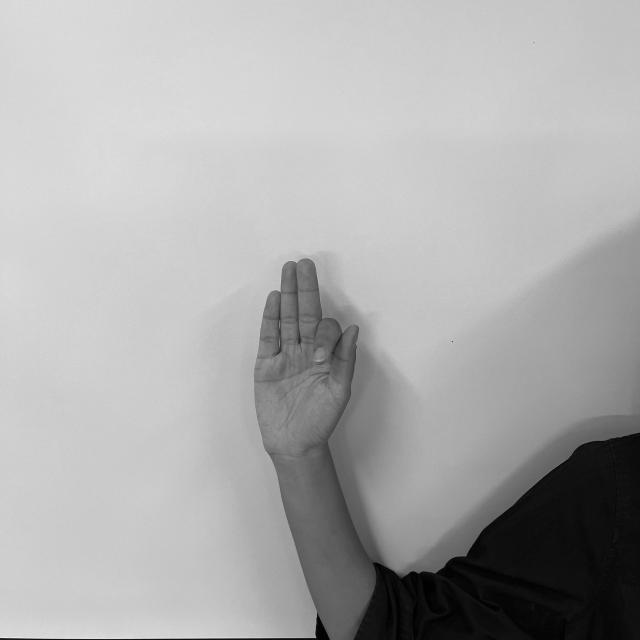Letra F: (250, 254, 362, 459)
